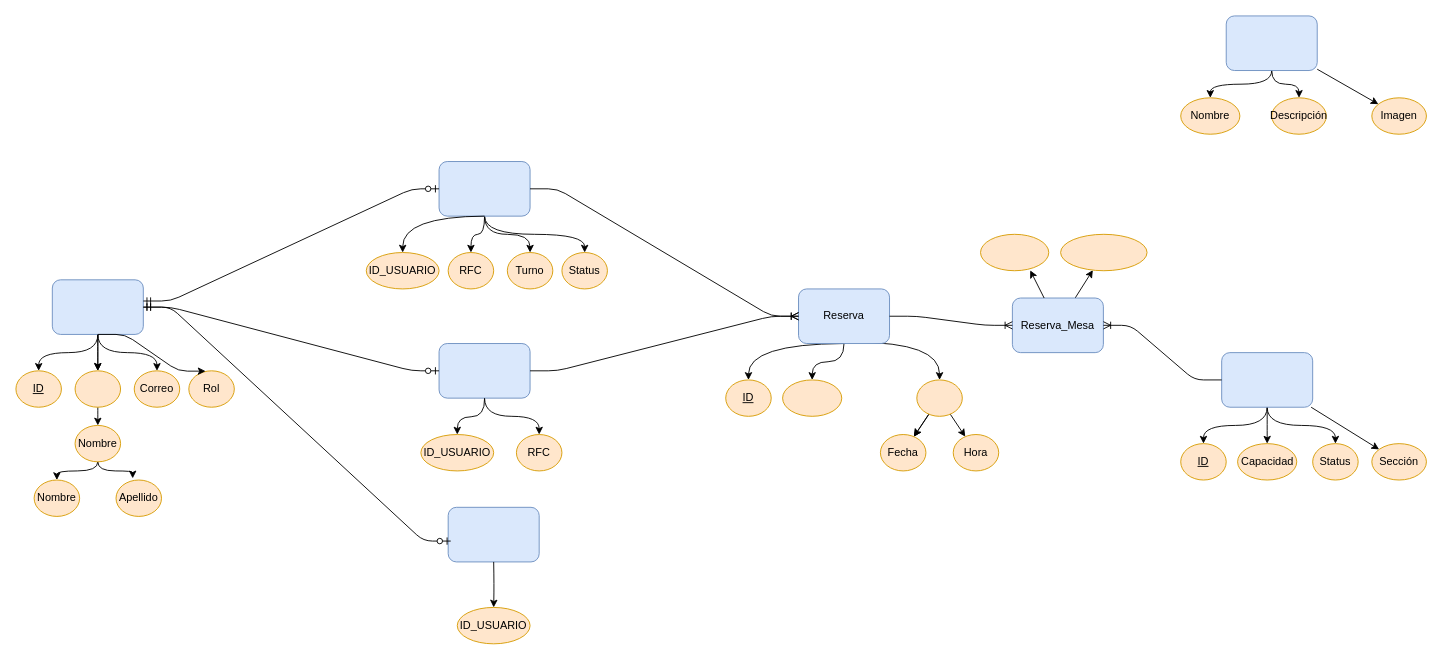
The diagram is 1442 pixels wide and 660 high, and some of its shapes have lost their labels. The box of each missing label's shape, as (x1, y1, x2, y2) in pixels:
Administrador: (447, 506, 539, 562)
Chefs: (1225, 15, 1317, 71)
Cliente: (438, 343, 530, 398)
Comensales: (782, 379, 842, 416)
Empleado: (438, 161, 530, 216)
Horario: (916, 379, 962, 416)
ID_MESA: (980, 233, 1049, 271)
ID_RESERVA: (1060, 233, 1147, 271)
Mesa: (1221, 352, 1313, 407)
Pwd: (74, 370, 121, 407)
Usuario: (51, 279, 143, 334)
